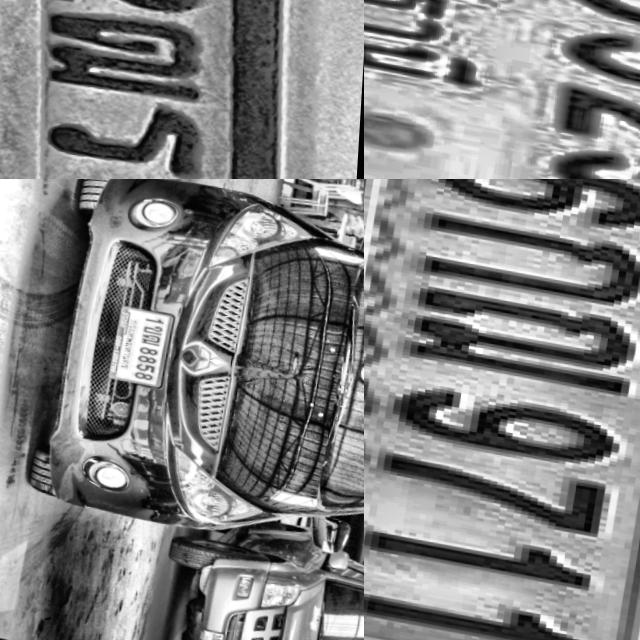license-plate: (364, 179, 640, 640), (0, 0, 343, 179), (364, 0, 640, 179), (107, 297, 183, 388)
